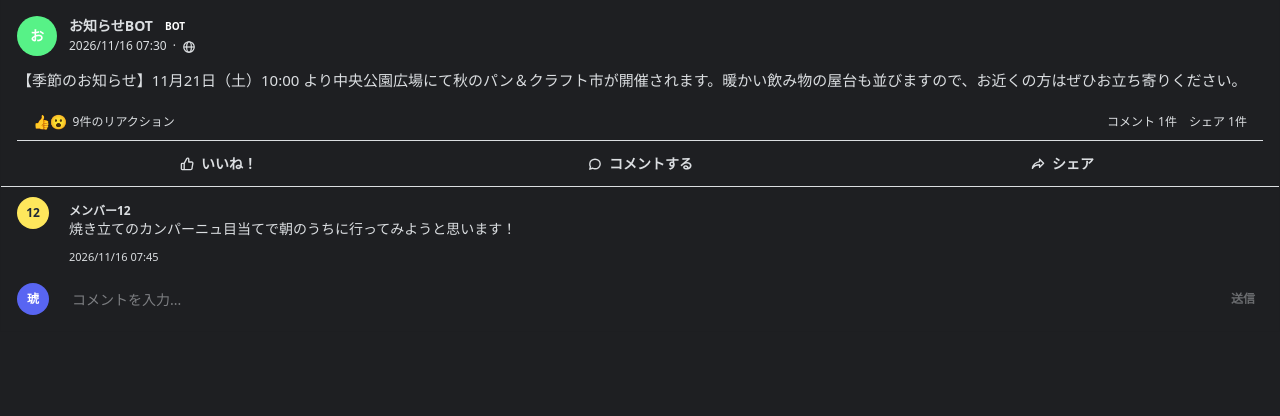
Scenario: PostCard（context 連携） › コメントを送信するとコメント数が増え、本文がコメント欄に表示される
Expected: the link "コメント 1件" is shown, [1107, 114, 1177, 130]
Type "追加コメントのテストです" into the field with placeholder "コメントを入力..." at coordinates (636, 299), box [57, 280, 1215, 319]
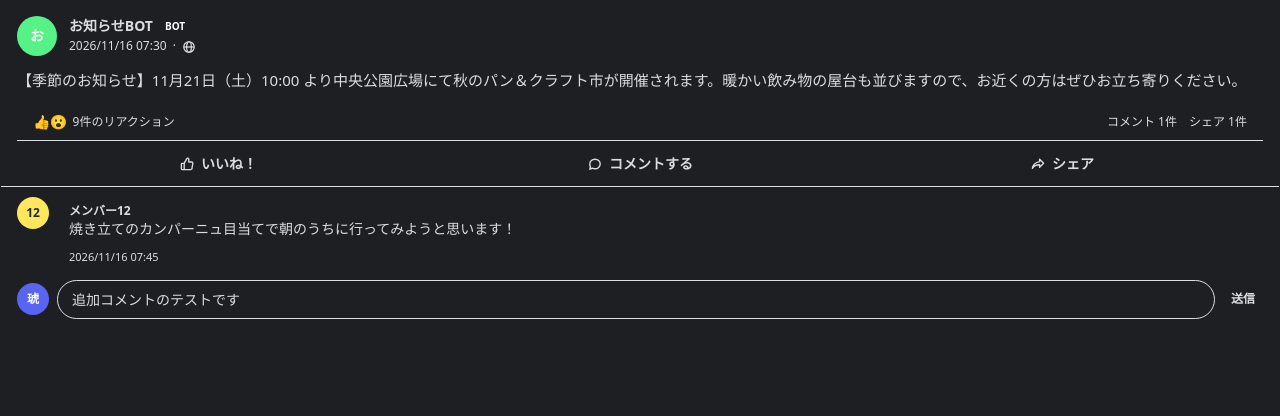
Click the button "送信" at coordinates (1243, 299), box [1223, 287, 1263, 311]
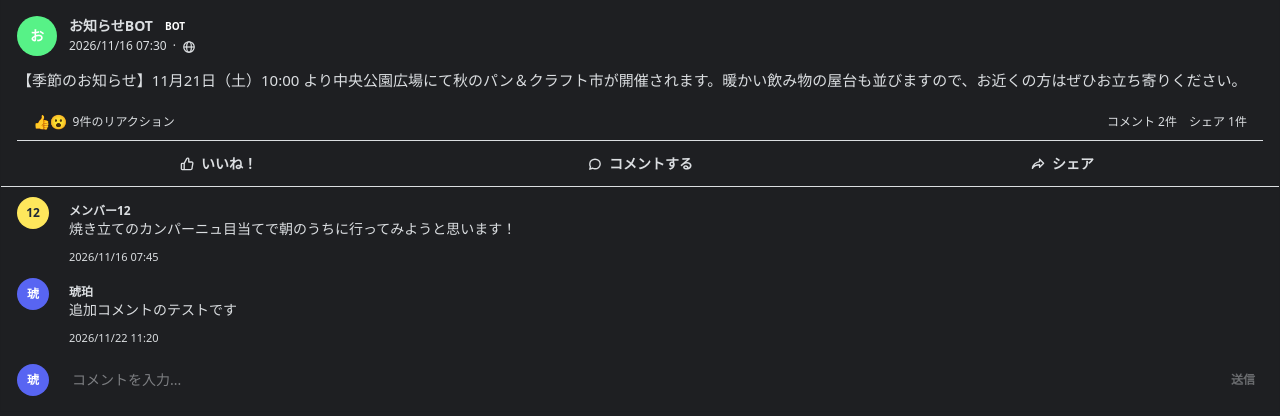
Result: the link "コメント 2件" is shown at [1107, 114, 1177, 130]
Result: the text "追加コメントのテストです" is shown at [69, 300, 237, 320]
Result: the field with placeholder "コメントを入力..." is empty at [57, 360, 1215, 399]
